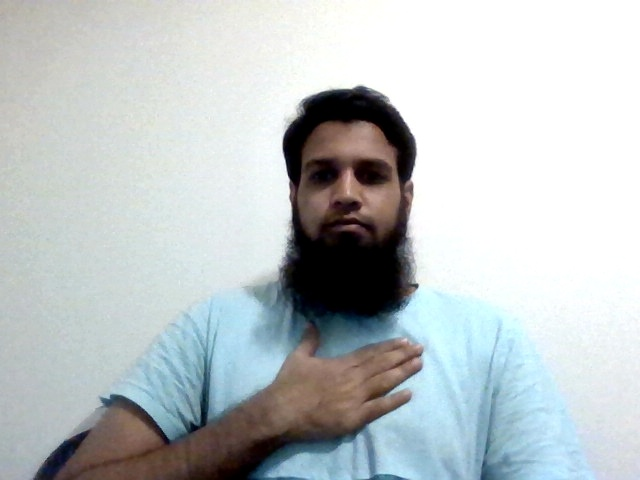please: (267, 317, 426, 448)
